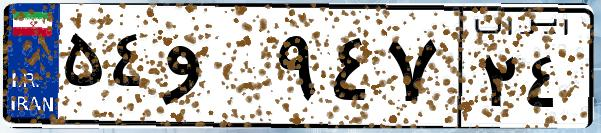2: (475, 38, 525, 113)
4: (330, 28, 385, 110), (525, 38, 570, 115), (110, 28, 158, 98)
5: (57, 26, 110, 100)
7: (385, 28, 445, 110)
9: (270, 28, 330, 110)
و: (158, 20, 270, 120)
